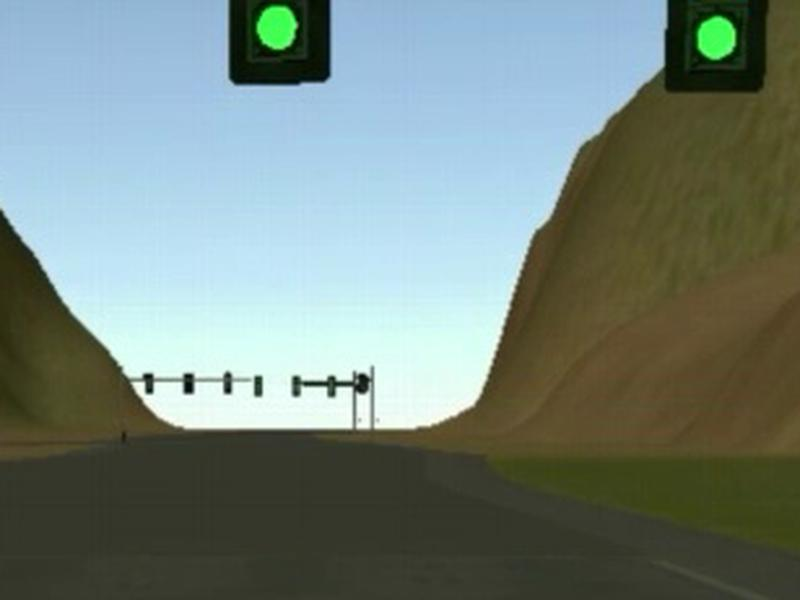Green: (666, 1, 770, 94), (229, 1, 331, 84)
